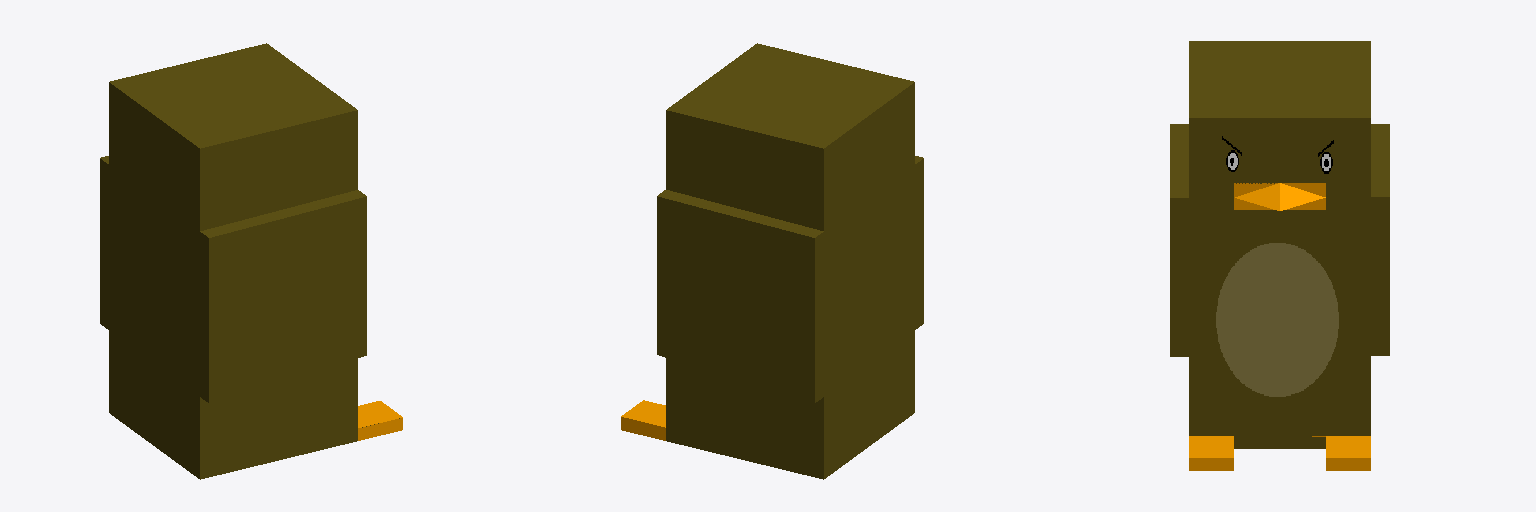
3 renders of one model, left to right at view 1: azimuth 30°, elevation 25°; view 2: azimuth 150°, elevation 25°; view 3: azimuth 270°, elevation 25°, orthographic.
Visible parts, largest first — view 1: Cube; view 2: Cube; view 3: Cube.
Part boxes in pixels (bbox=[...]): Cube: bbox=[100, 43, 402, 479]; Cube: bbox=[621, 43, 923, 479]; Cube: bbox=[1170, 41, 1389, 470].
Bounding box in the file's own units: 2.57 × 4 × 2.4.
Materials: 1 (1 with a texture image).